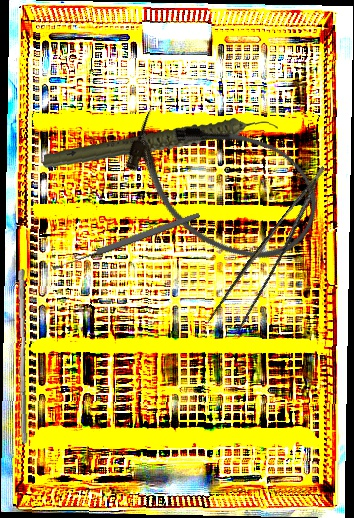Cannula: (106, 85, 337, 284)
Handpiece: (42, 102, 280, 187)
Pusher: (11, 268, 35, 445)
Surgical Spoon: (51, 210, 201, 273)
Tissue Forceps: (201, 165, 351, 343)
